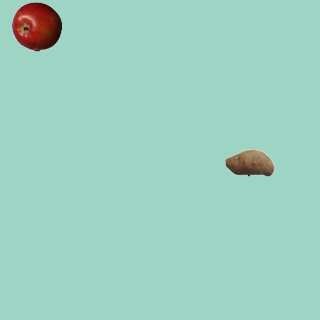Apple Braeburn: (11, 1, 61, 51)
Potato Sweet: (224, 137, 274, 187)
